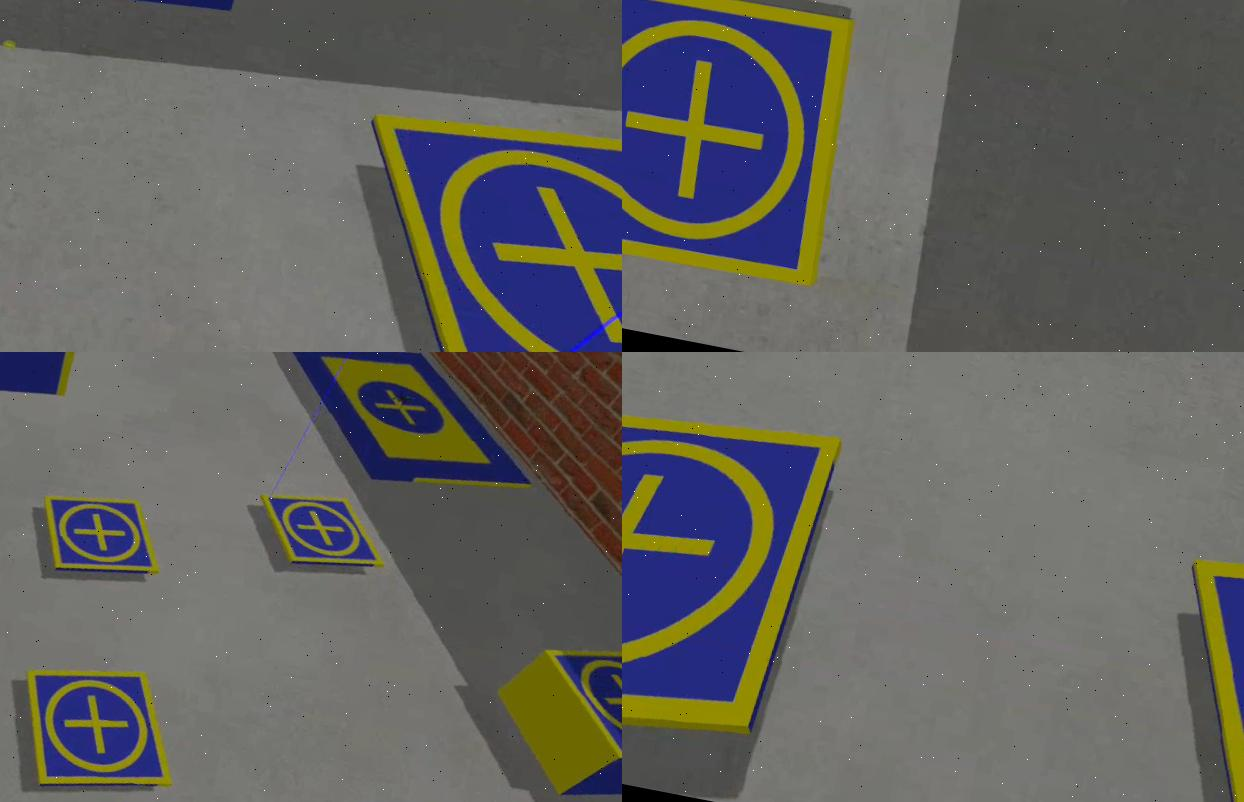large_base: (271, 353, 550, 514)
small_base: (623, 370, 853, 781), (318, 93, 623, 353), (623, 1, 869, 297), (6, 651, 188, 802), (30, 485, 174, 594), (252, 485, 393, 586), (528, 633, 623, 771)
